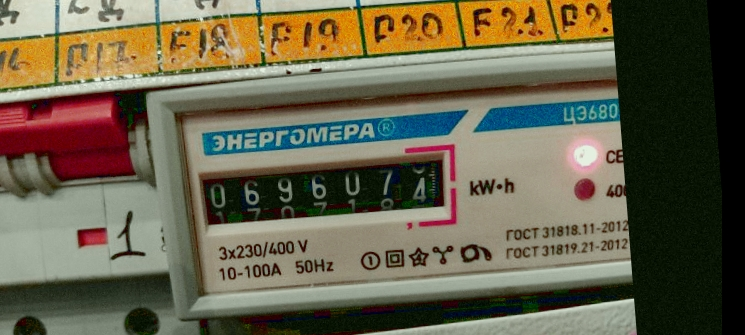0: (206, 180, 229, 210), (342, 167, 363, 197), (242, 178, 261, 205)
4: (409, 175, 428, 204)
6: (307, 169, 328, 201)
7: (375, 165, 396, 195)
9: (275, 174, 295, 203)
screen: (183, 139, 463, 244)
